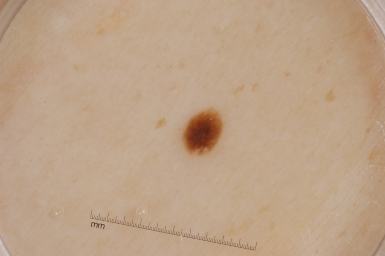seborrheic keratosis: (148, 95, 248, 173)
